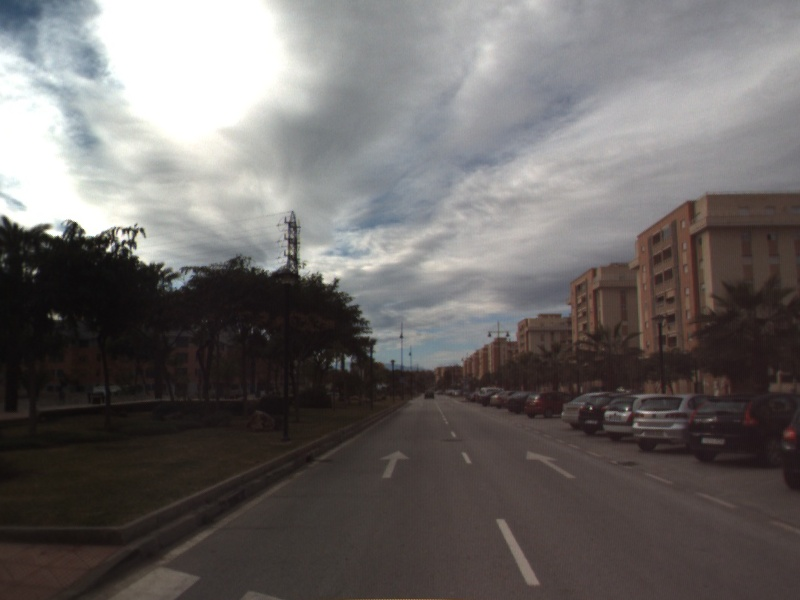STRAIGHT: (524, 449, 578, 480), (378, 449, 412, 480)
